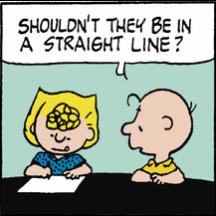charlie: (121, 88, 198, 186)
